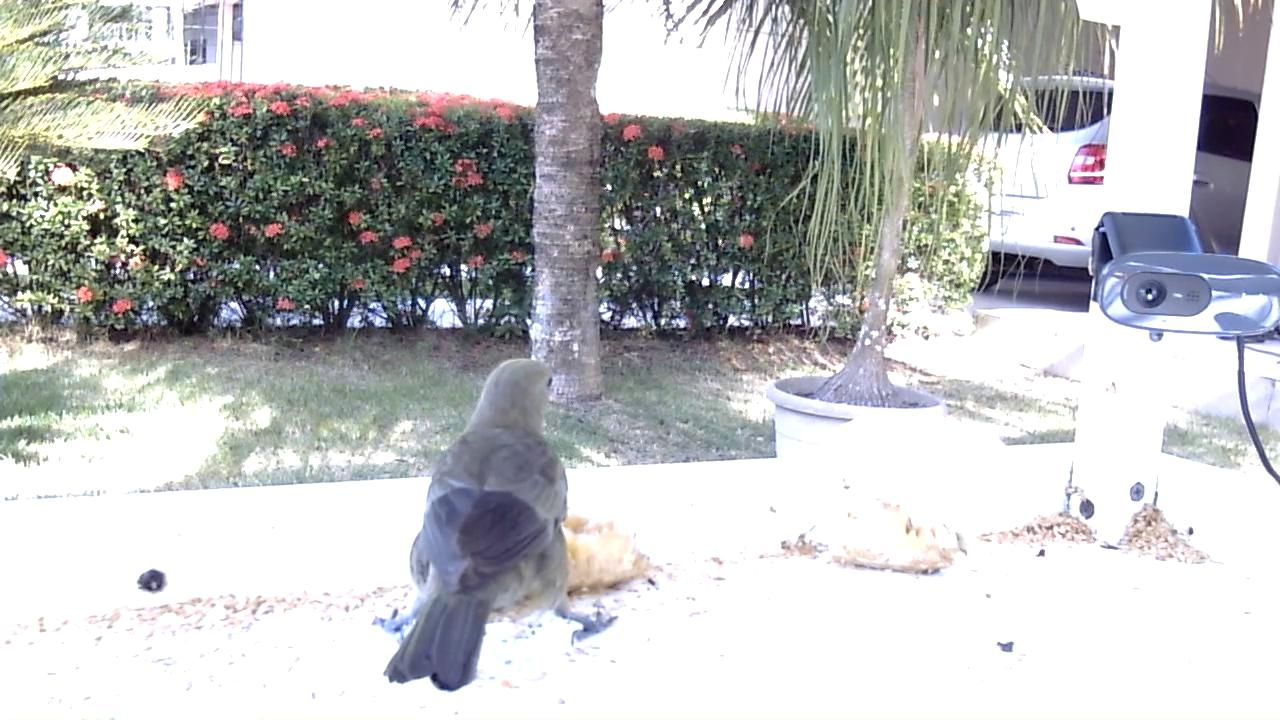sanhaco_do_coqueiro: (373, 360, 620, 694)
